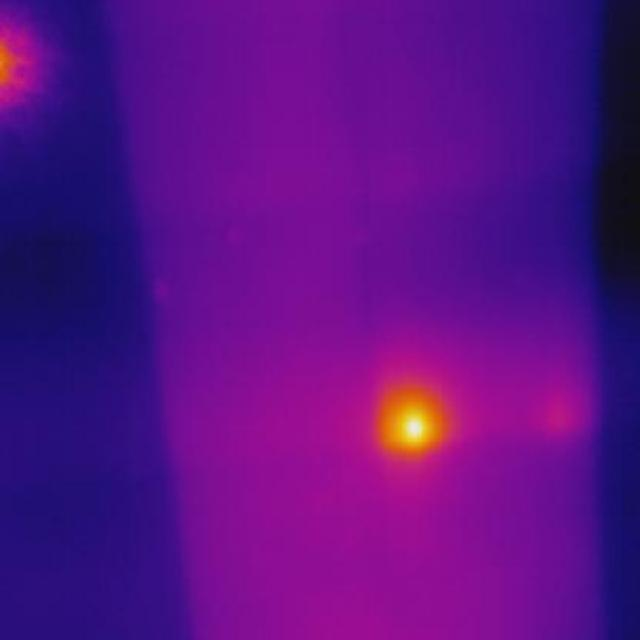hotspot: (370, 389, 453, 466)
